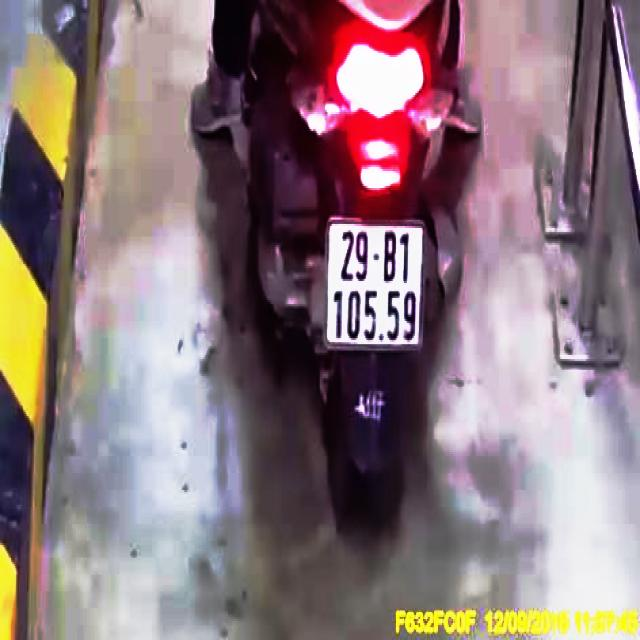license_plate: (328, 220, 426, 349)
